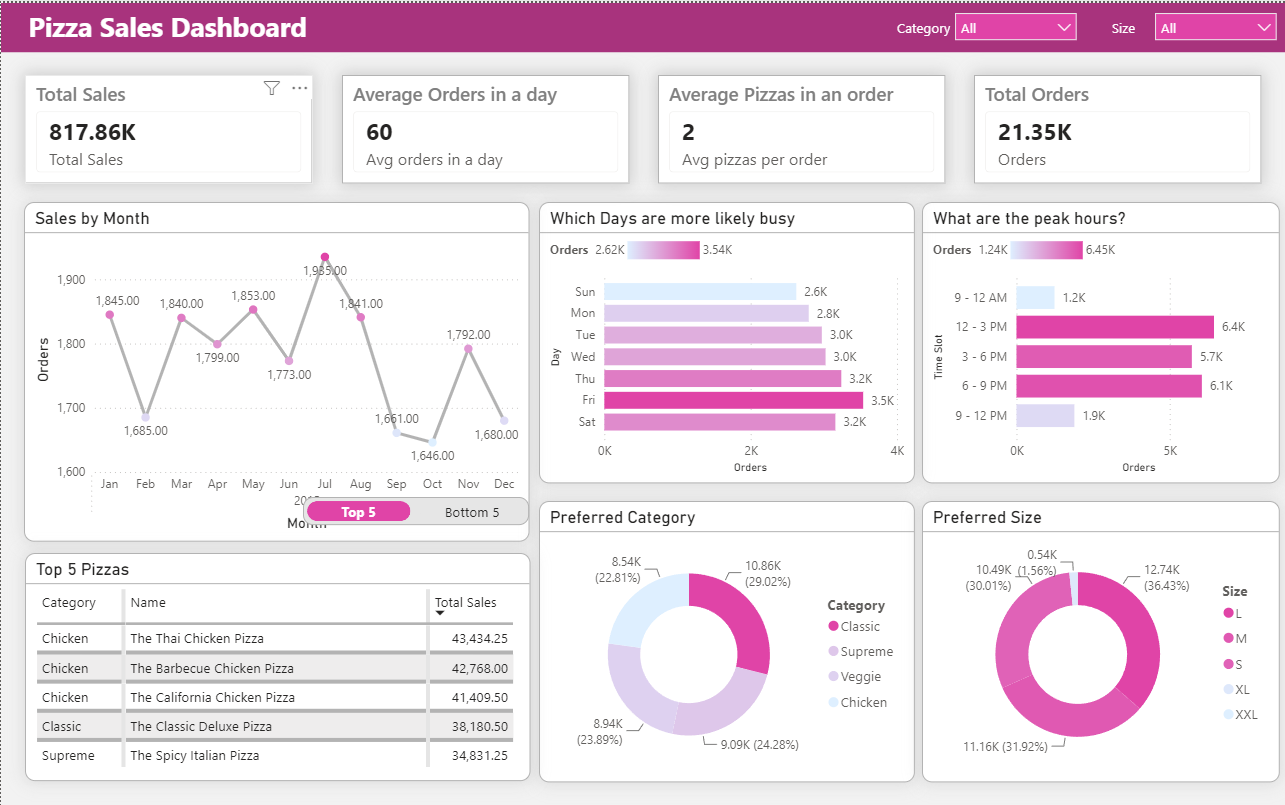

The dashboard page shown, as its layout file describes it:
{"tool":"powerbi","page":{"name":"Page 1","canvas":[1280,800],"ordinal":0},"visuals":[{"type":"textbox","box":[0,0,1279.6,48.8],"z":0},{"type":"slicer","fields":{"Values":["Pizza Type.Category"]},"box":[938.9,0,141.5,49.1],"z":0,"group":"g1"},{"type":"slicer","fields":{"Values":["Pizzas.Size"]},"box":[1138.1,0,141.5,49.1],"z":0,"group":"g2"},{"type":"shape","box":[889.1,0,57,49.1],"z":1000,"group":"g1"},{"type":"shape","box":[1088.3,0,57,49.1],"z":1000,"group":"g2"},{"type":"barChart","title":"What are the peak hours?","fields":{"Category":["Orders.Time Slot"],"Y":["All Measures.Order"]},"box":[916.1,198.5,355.9,279.5],"z":1000},{"type":"barChart","title":"Which Days are more likely busy","fields":{"Category":["Date Table.Day"],"Y":["All Measures.Order"]},"box":[535,198.5,374.2,279.5],"z":2000},{"type":"lineChart","title":"Sales by Month","fields":{"Category":["Date Table.Year","Date Table.Month"],"Y":["All Measures.Order"]},"box":[22.8,198.5,503.1,337.7],"z":3000},{"type":"donutChart","title":"Preferred Category","fields":{"Category":["Pizza Type.Category"],"Y":["All Measures.Orders"]},"box":[535,495.1,374.2,279.5],"z":4000},{"type":"donutChart","title":"Preferred Size","fields":{"Y":["All Measures.Orders"],"Category":["Pizzas.Size"]},"box":[916.1,495.1,355.9,279.5],"z":5000},{"type":"tableEx","title":"Top 5 Pizzas","fields":{"Values":["Pizza Type.Category","Pizza Type.Name","All Measures.Total Sales"]},"box":[24,547.6,503.1,227],"z":6000},{"type":"bookmarkNavigator","box":[300.5,491.1,225.4,28.2],"z":8000},{"type":"cardVisual","title":"Total Sales","fields":{"Data":["All Measures.Total Sales"]},"box":[24,71.9,286.3,108.4],"z":9000},{"type":"cardVisual","title":"Total Orders","fields":{"Data":["All Measures.Orders"]},"box":[968.6,71.9,286.3,108.4],"z":10000},{"type":"cardVisual","title":"Average Pizzas in an order","fields":{"Data":["All Measures.Avg pizzas per order"]},"box":[653.7,71.9,286.3,108.4],"z":11000},{"type":"cardVisual","title":"Average Orders in a day","fields":{"Data":["All Measures.Avg orders in a day"]},"box":[338.8,71.9,286.3,108.4],"z":12000},{"type":"group","id":"g1","title":"Size Slicer","box":[889.1,0,191.2,49.1],"z":13000},{"type":"group","id":"g2","title":"Category Slicer","box":[1088.3,0,191.7,49.1],"z":14000}]}

Visuals, with their boxes in screenshot pixels (x1, y1, x2, y2), scaled from the page's 1280x800 canvas onto the 1285x805 screenshot:
textbox: [left=0, top=0, right=1284, bottom=49]
slicer - Pizza Type.Category: [left=943, top=0, right=1085, bottom=49]
slicer - Pizzas.Size: [left=1143, top=0, right=1284, bottom=49]
shape: [left=893, top=0, right=950, bottom=49]
shape: [left=1093, top=0, right=1150, bottom=49]
"What are the peak hours?" barChart: [left=920, top=200, right=1277, bottom=481]
"Which Days are more likely busy" barChart: [left=537, top=200, right=913, bottom=481]
"Sales by Month" lineChart: [left=23, top=200, right=528, bottom=540]
"Preferred Category" donutChart: [left=537, top=498, right=913, bottom=779]
"Preferred Size" donutChart: [left=920, top=498, right=1277, bottom=779]
"Top 5 Pizzas" tableEx: [left=24, top=551, right=529, bottom=779]
bookmarkNavigator: [left=302, top=494, right=528, bottom=523]
"Total Sales" cardVisual: [left=24, top=72, right=312, bottom=181]
"Total Orders" cardVisual: [left=972, top=72, right=1260, bottom=181]
"Average Pizzas in an order" cardVisual: [left=656, top=72, right=944, bottom=181]
"Average Orders in a day" cardVisual: [left=340, top=72, right=628, bottom=181]
"Size Slicer" group: [left=893, top=0, right=1085, bottom=49]
"Category Slicer" group: [left=1093, top=0, right=1284, bottom=49]
